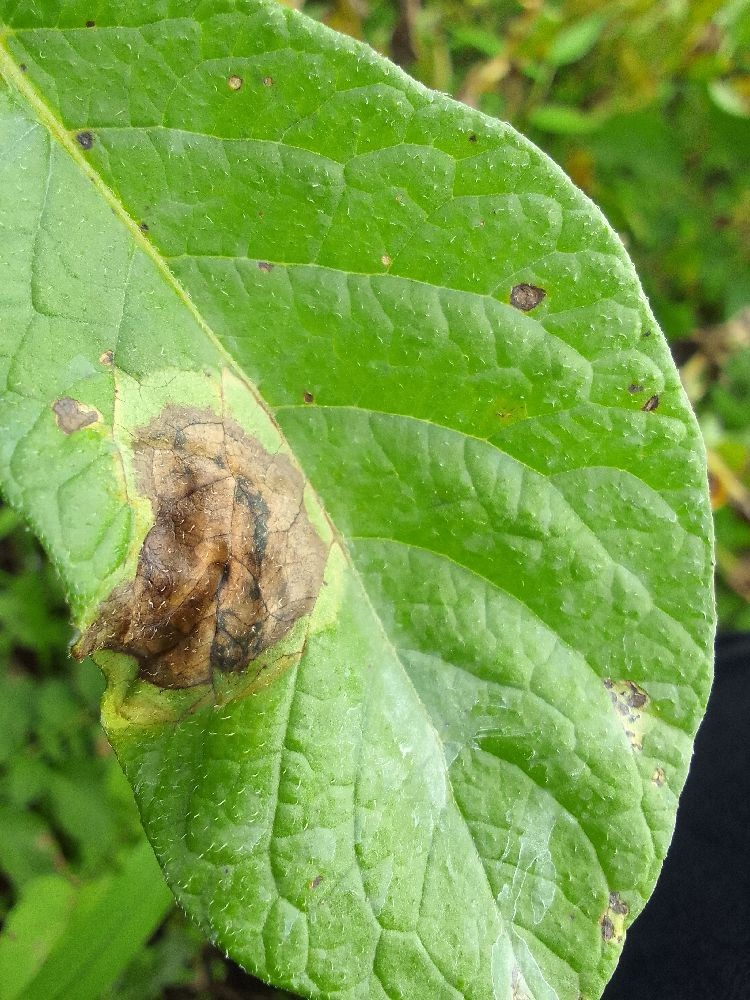late_blight: (54, 391, 347, 706), (429, 18, 654, 141), (657, 265, 750, 405), (139, 923, 299, 1000)
